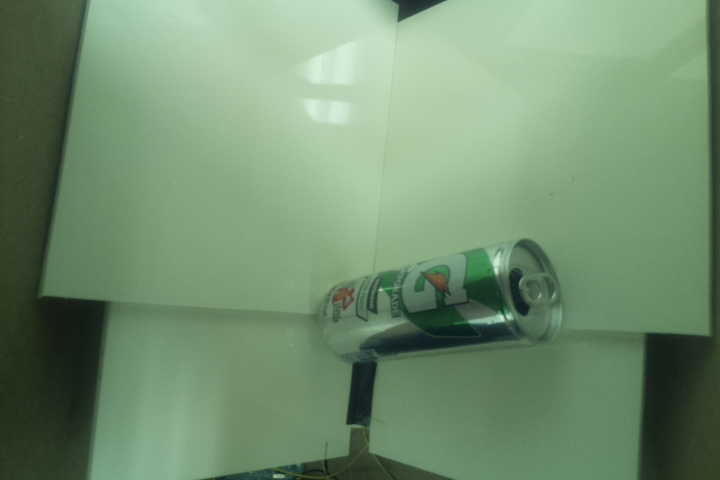can: (319, 237, 563, 365)
